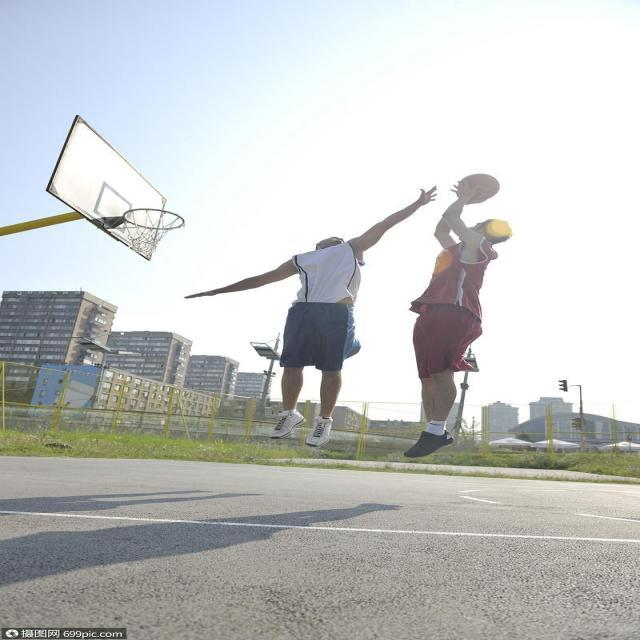rim: (452, 174, 502, 201)
